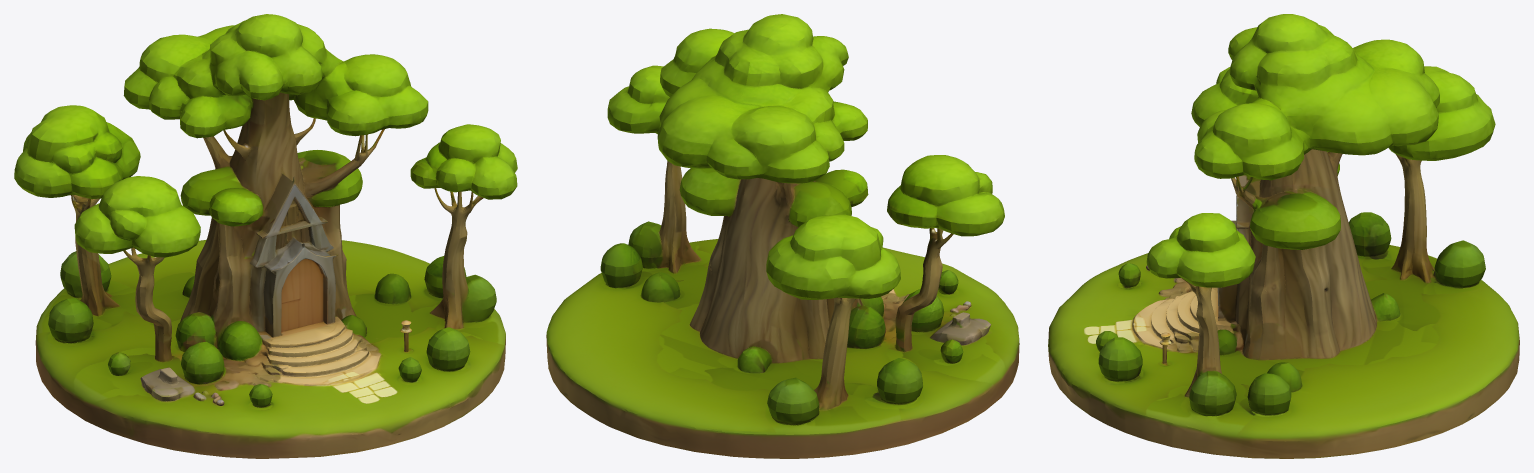
File: superIndayBase.fbx
3 renders of one model, left to right at view 1: azimuth 30°, elevation 25°; view 2: azimuth 150°, elevation 25°; view 3: azimuth 270°, elevation 25°, orthographic.
Parts seen in each view (by area): view 1: model; view 2: model; view 3: model.
Boxes of the visible parts, left/top/right/bottom form: model: left=14, top=14, right=517, bottom=458; model: left=546, top=14, right=1019, bottom=458; model: left=1048, top=14, right=1519, bottom=458.
Bounding box in the file's own units: 186 × 148 × 185.
Materials: 1 (1 with a texture image).
